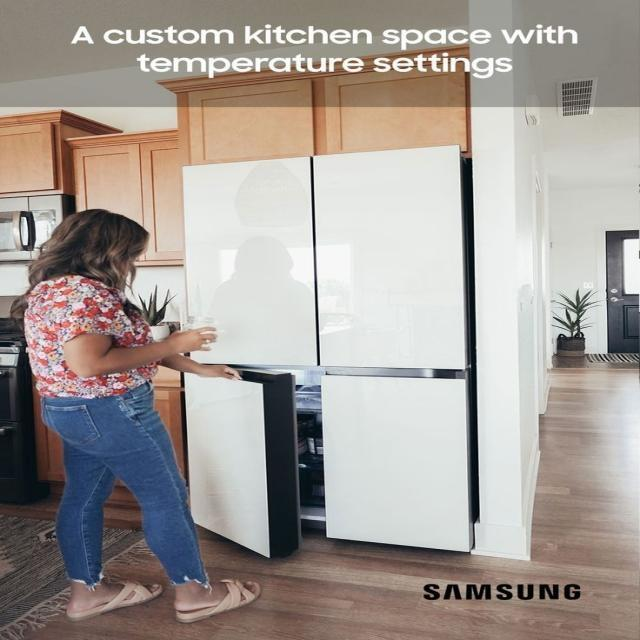obstacle: (180, 144, 476, 559)
person: (17, 207, 262, 624)
